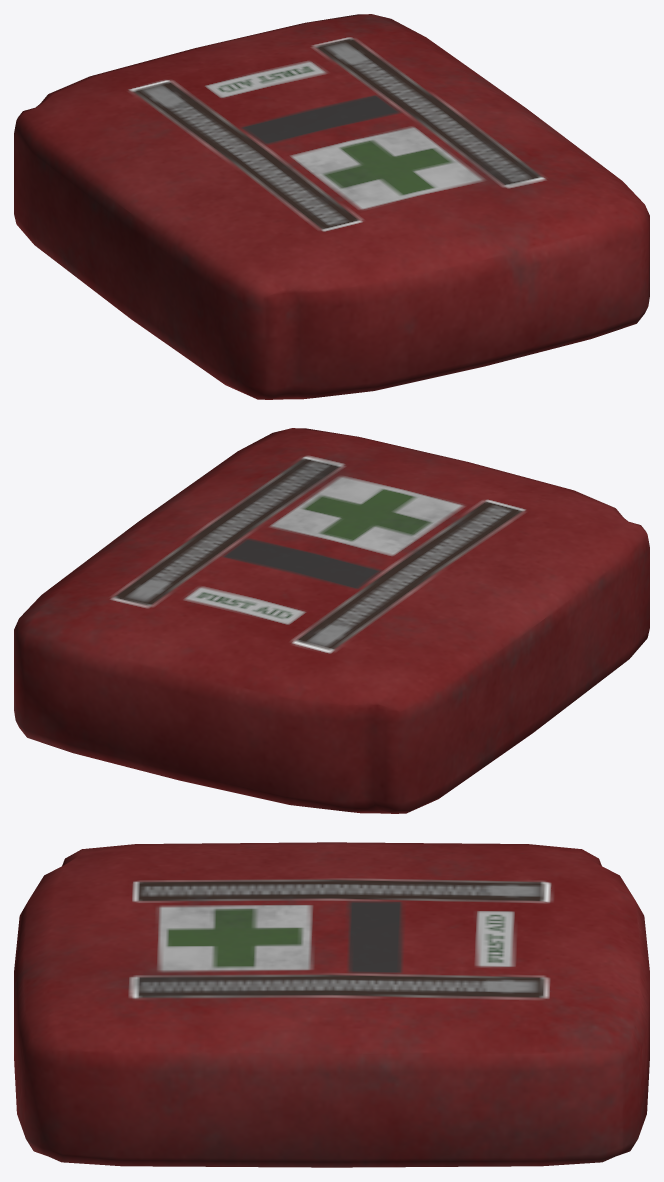
File: FirstAidKit02.glb
The picture shows the model from 3 angles, top to bottom: view 1: azimuth 30°, elevation 25°; view 2: azimuth 150°, elevation 25°; view 3: azimuth 270°, elevation 25°; orthographic projection. The views are drawn at different scales.
Visible parts, largest first — view 1: FA_Kit; view 2: FA_Kit; view 3: FA_Kit.
Part boxes in pixels (x1,y1,x2,y2): FA_Kit: (14, 14, 649, 399); FA_Kit: (14, 428, 649, 813); FA_Kit: (14, 842, 649, 1167).
Bounding box in the file's own units: 0.2556 × 0.084 × 0.32.
Materials: 1 (1 with a texture image).
